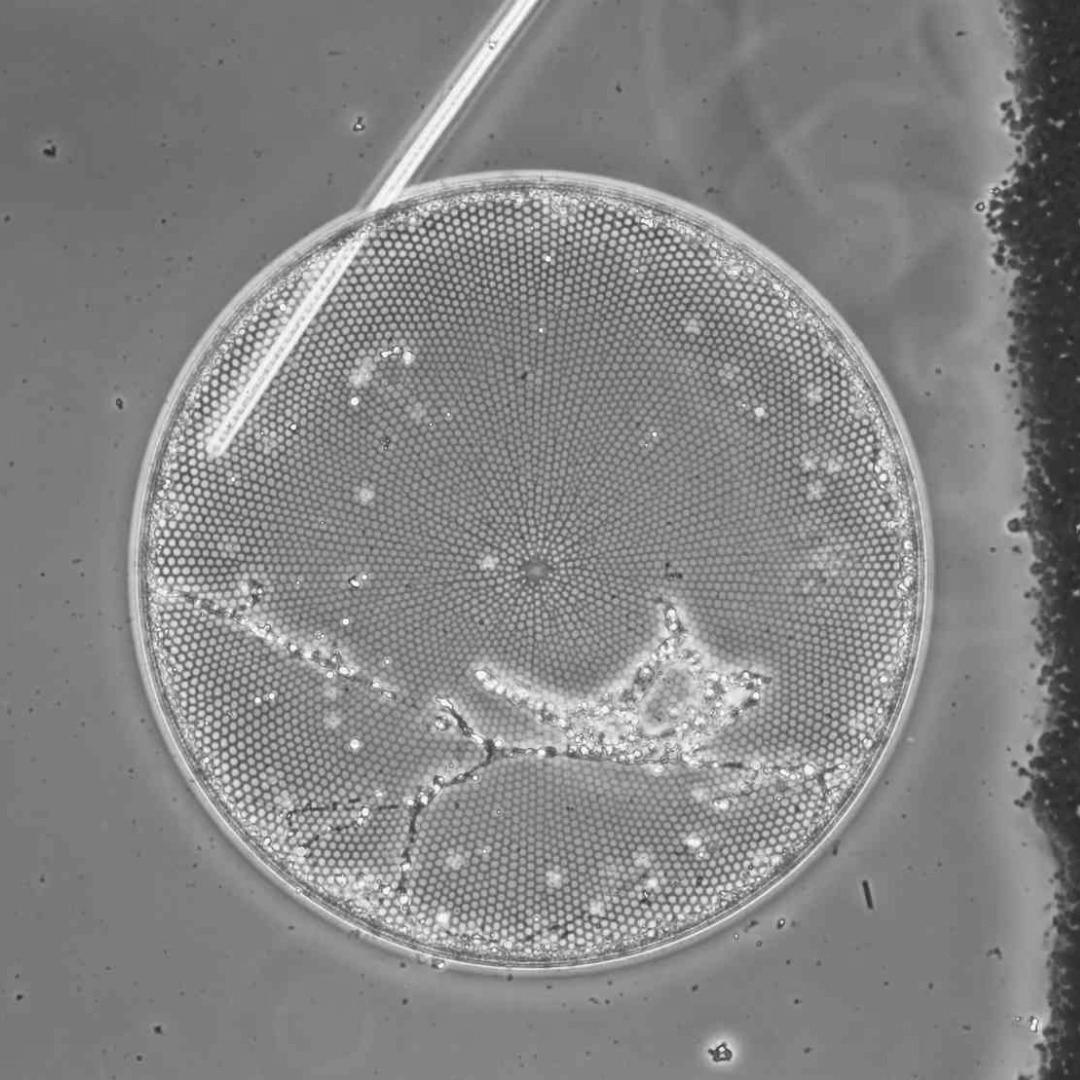coscinodiscus_oculus_iridis: (136, 174, 918, 961)
